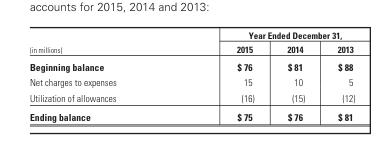table: (28, 28, 354, 122)
table column: (28, 28, 175, 122), (175, 28, 270, 122), (270, 28, 320, 122), (320, 28, 354, 122)
table column header: (28, 28, 354, 57)
table row: (28, 89, 354, 107), (28, 57, 354, 74), (28, 41, 354, 57), (28, 74, 354, 89), (28, 107, 354, 122), (28, 28, 354, 41)
table spanning cell: (28, 28, 175, 57), (175, 28, 354, 41)
